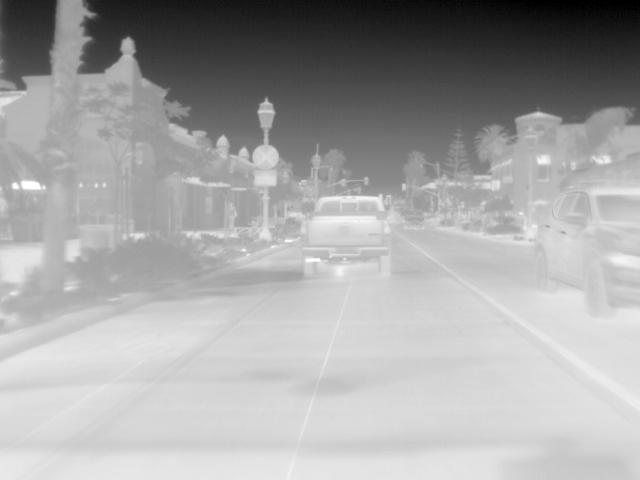car: (532, 180, 640, 317), (304, 192, 391, 278), (401, 207, 428, 230)
person: (227, 200, 239, 234)
